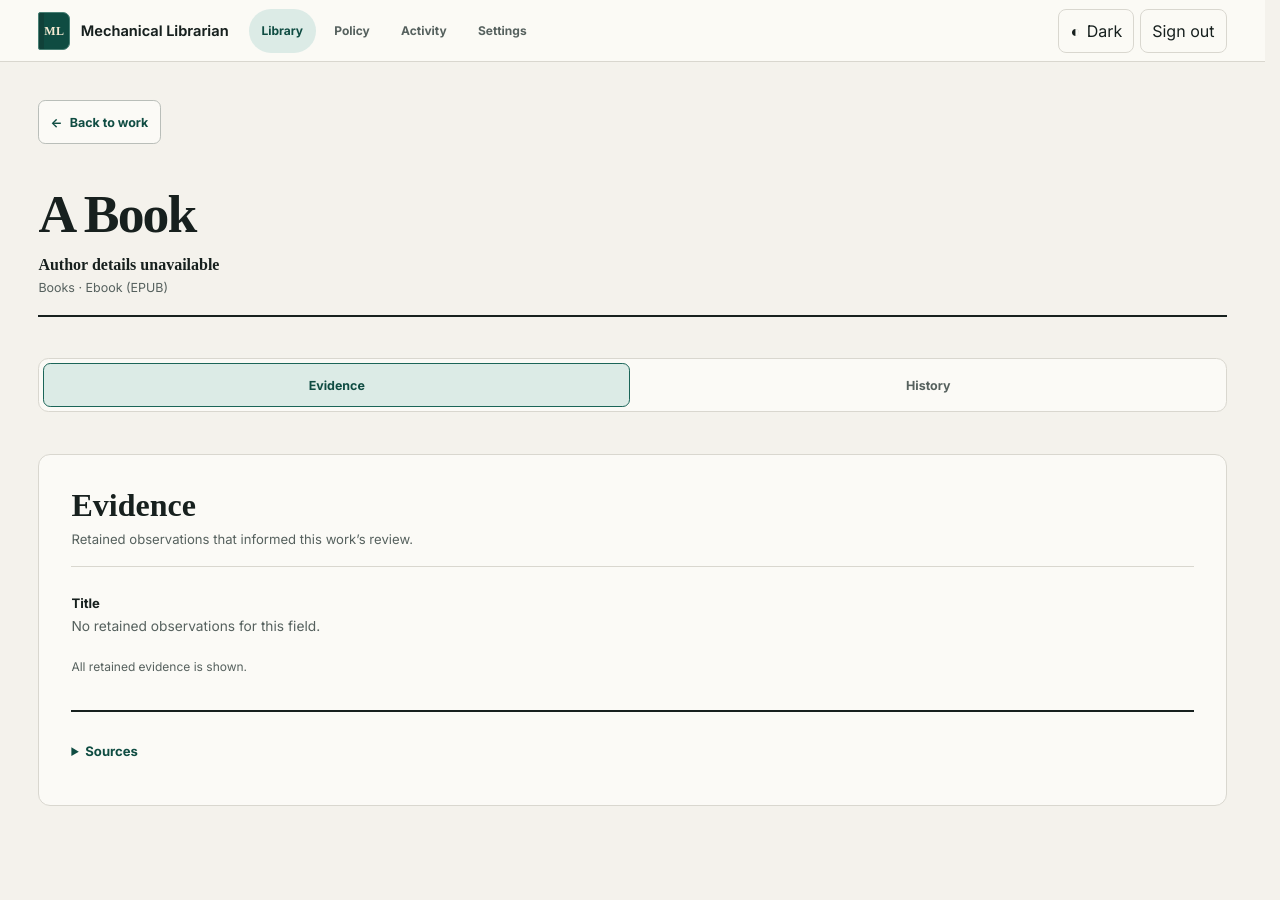
Library review ownership › cross-links diagnostics with URL-owned state and browser history
The width and height of the screenshot is (1280, 900).
Expected: the heading "Evidence" is shown, [71,487,196,523]
What coordinates should you click on to do the following:
click the link "History"
I would click on:
 (928, 385)
Its box is [906,378,951,393].
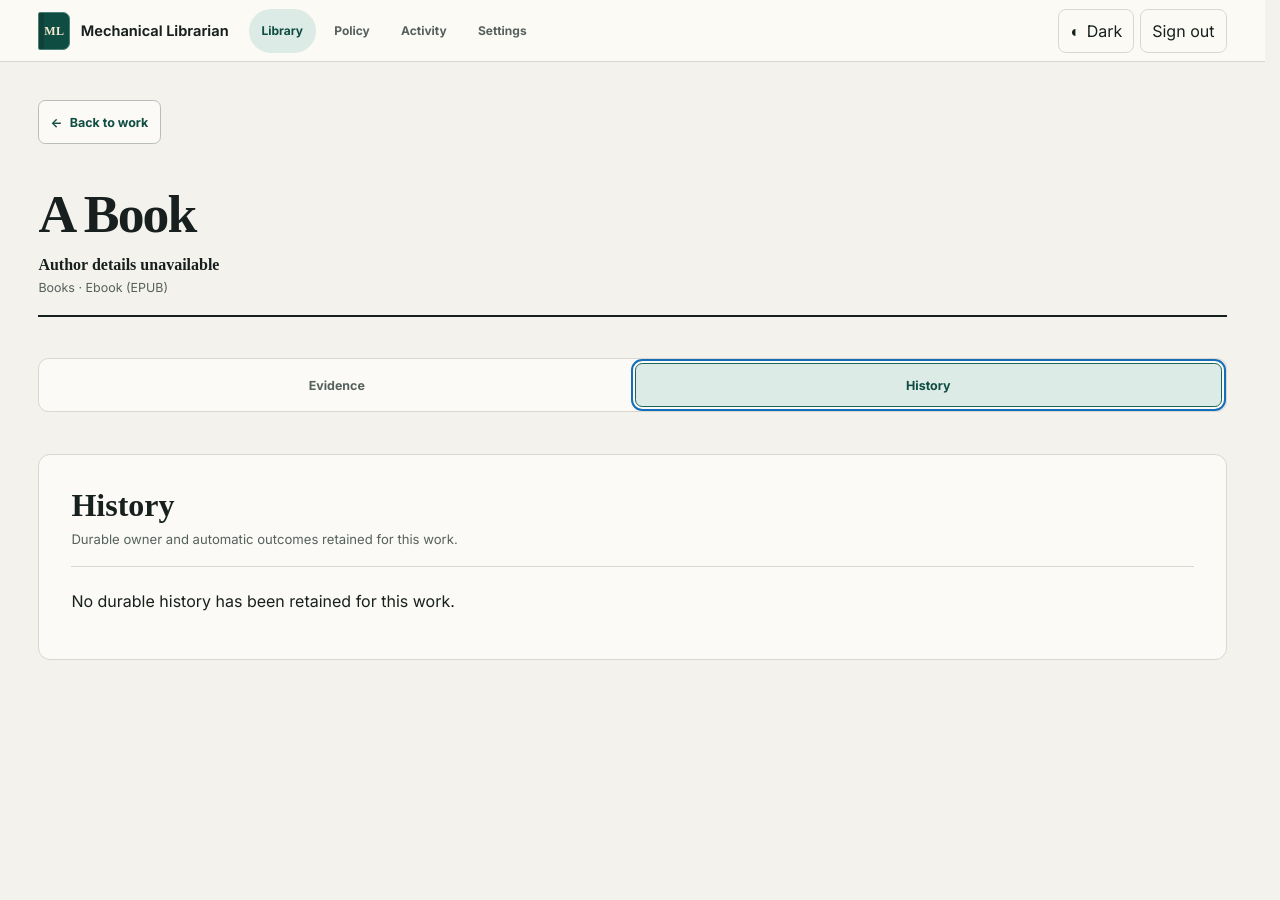
Expected: the heading "History" is shown, [71,487,174,523]
